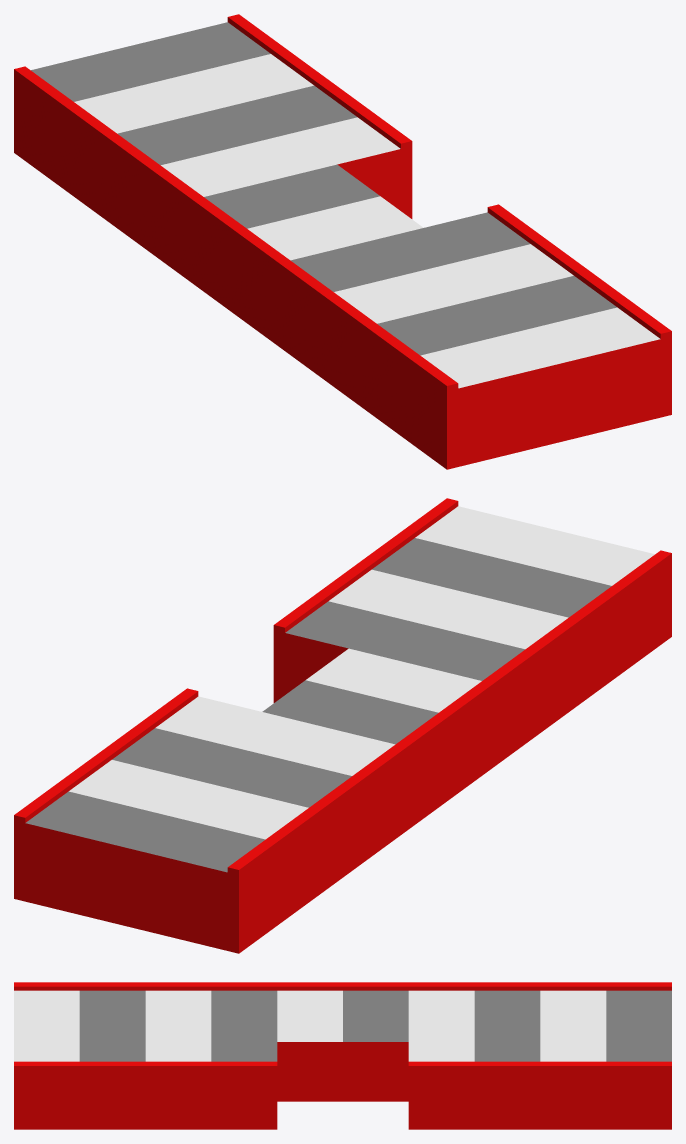
The model's file is Track_Hole_L.fbx.
3 views of the same model, one above another, from view 1: azimuth 30°, elevation 25°; view 2: azimuth 150°, elevation 25°; view 3: azimuth 270°, elevation 25° (orthographic). The views are drawn at different scales.
Parts seen in each view (by area): view 1: Track_Hole_L; view 2: Track_Hole_L; view 3: Track_Hole_L.
Boxes of the visible parts, <box> form: Track_Hole_L: <box>14,14,671,469</box>; Track_Hole_L: <box>14,498,671,953</box>; Track_Hole_L: <box>14,982,671,1129</box>.
Bounding box in the file's own units: 900 × 320 × 3000.
